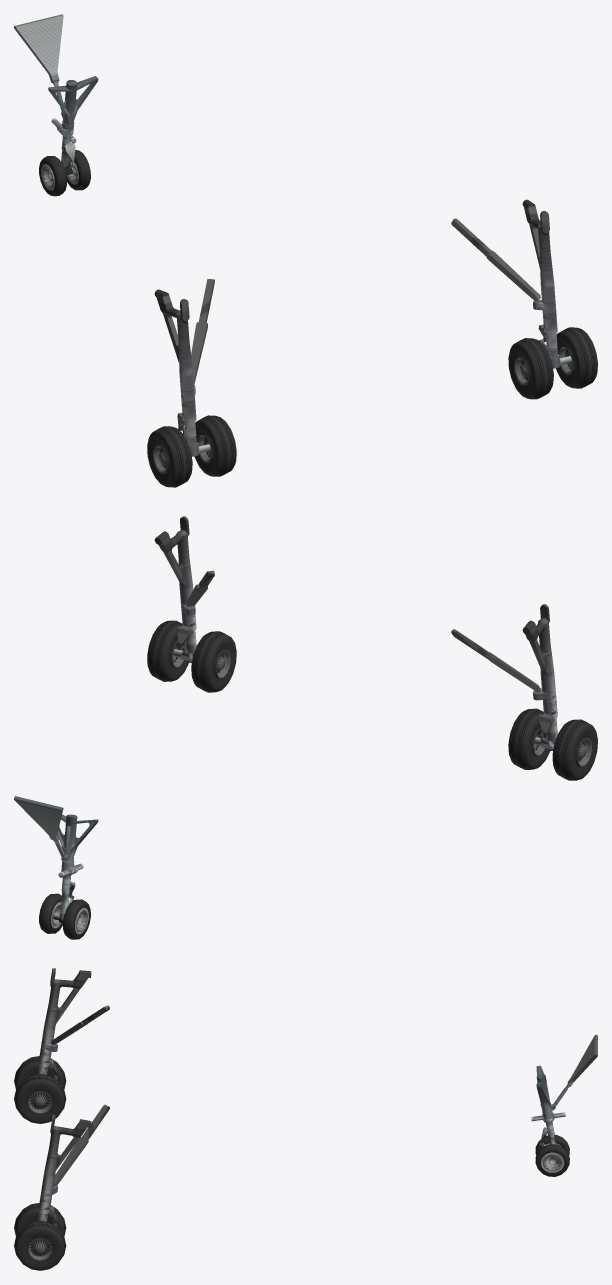
3 renders of one model, top to bottom at view 1: azimuth 30°, elevation 25°; view 2: azimuth 150°, elevation 25°; view 3: azimuth 270°, elevation 25°, orthographic. The views are drawn at different scales.
Visible parts, largest first — view 1: Tires (×3), FITTING (×3), D_STRUCT.U, Bearing (×2), D_STRUCT.L; view 2: Tires (×3), FITTING (×3), Bearing (×2), D_STRUCT.U; view 3: Tires (×3), FITTING (×3), Bearing (×2), D_STRUCT.U, D_STRUCT.L.
Boxes of the visible parts, x1,y1,x2,y2 form: Tires (×3): (39, 150, 597, 487); FITTING (×3): (48, 76, 557, 422); D_STRUCT.U: (14, 14, 63, 82); Bearing (×2): (152, 345, 574, 473); D_STRUCT.L: (486, 250, 540, 301); Tires (×3): (39, 620, 597, 939); FITTING (×3): (57, 516, 557, 892); Bearing (×2): (170, 639, 592, 767); D_STRUCT.U: (14, 796, 63, 840); Tires (×3): (14, 1056, 569, 1270); FITTING (×3): (38, 968, 555, 1214); Bearing (×2): (27, 1073, 52, 1261); D_STRUCT.U: (567, 1034, 597, 1087); D_STRUCT.L: (54, 1137, 88, 1185).
Bounding box in the file's own units: 8.92 × 3.5 × 12.76.
Materials: 2 (2 with a texture image).
